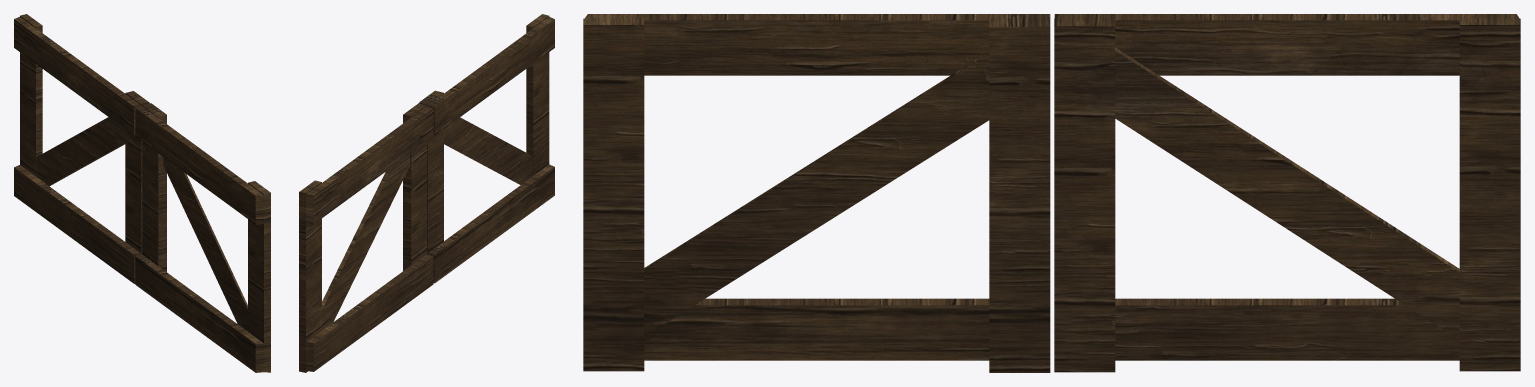
Rendered from PortasCerca .fbx.
The picture shows the model from 3 angles, left to right: view 1: azimuth 30°, elevation 25°; view 2: azimuth 150°, elevation 25°; view 3: azimuth 270°, elevation 25°; orthographic projection. The views are drawn at different scales.
Visible parts, largest first — view 1: Porta cerca 2, Porta Cerca 1; view 2: Porta Cerca 1, Porta cerca 2; view 3: Porta Cerca 1, Porta cerca 2.
Boxes of the visible parts, x1,y1,x2,y2 form: Porta cerca 2: (135, 103, 270, 372); Porta Cerca 1: (14, 14, 149, 283); Porta Cerca 1: (299, 103, 433, 372); Porta cerca 2: (419, 14, 554, 283); Porta Cerca 1: (1054, 14, 1520, 372); Porta cerca 2: (583, 14, 1050, 372).
Bounding box in the file's own units: 13.75 × 151 × 370.
